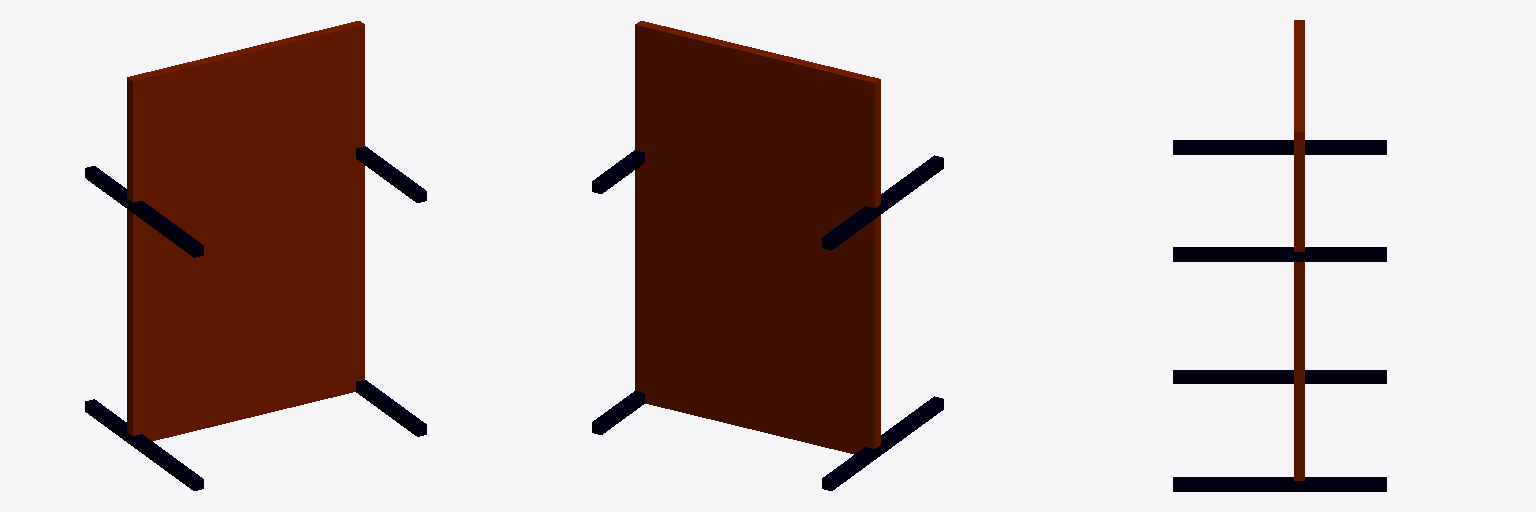
robot.urdf — pallet_rack:
<?xml version="1.0"?>
<robot name="pallet_rack">

  <material name="rack_blue"><color rgba="0.0 0.2 0.6 1.0"/></material>
  <material name="rack_orange"><color rgba="1.0 0.4 0.0 1.0"/></material>

  <link name="rack_base">
    
    <inertial>
      <mass value="100.0"/>
      <origin xyz="0 0 0.1" rpy="0 0 0"/>
      <inertia ixx="45.0" ixy="0.0" ixz="0.0" iyy="45.0" iyz="0.0" izz="5.0"/>
    </inertial>

    <visual><origin xyz="0 0 0" rpy="0 0 0"/><geometry><mesh filename="poll1.dae"/></geometry></visual>
    <collision><origin xyz="0 0 0" rpy="0 0 0"/><geometry><mesh filename="poll1.dae"/></geometry></collision>

    <visual><origin xyz="0 0 0" rpy="0 0 0"/><geometry><mesh filename="poll2.dae"/></geometry></visual>
    <collision><origin xyz="0 0 0" rpy="0 0 0"/><geometry><mesh filename="poll2.dae"/></geometry></collision>

    <visual><origin xyz="0 0 0" rpy="0 0 0"/><geometry><mesh filename="poll3.dae"/></geometry></visual>
    <collision><origin xyz="0 0 0" rpy="0 0 0"/><geometry><mesh filename="poll3.dae"/></geometry></collision>

    <visual><origin xyz="0 0 0" rpy="0 0 0"/><geometry><mesh filename="poll4.dae"/></geometry></visual>
    <collision><origin xyz="0 0 0" rpy="0 0 0"/><geometry><mesh filename="poll4.dae"/></geometry></collision>

    <visual><origin xyz="0 0 0" rpy="0 0 0"/><geometry><mesh filename="base.dae"/></geometry></visual>
    <collision><origin xyz="0 0 0" rpy="0 0 0"/><geometry><mesh filename="base.dae"/></geometry></collision>

    <visual><origin xyz="0 0 0.6" rpy="0 0 0"/><geometry><mesh filename="base.dae"/></geometry></visual>
    <collision><origin xyz="0 0 0.6" rpy="0 0 0"/><geometry><mesh filename="base.dae"/></geometry></collision>

  </link>
</robot>

--- Facts derived from the render (not from the file) ---
3 views of the same robot in one strip: view 1: azimuth 30°, elevation 25°; view 2: azimuth 150°, elevation 25°; view 3: azimuth 270°, elevation 25° (orthographic).
Robot: pallet_rack — 1 links, 0 joints (none); root link rack_base; default pose: every joint at zero.
Links seen in each view (by area): view 1: rack_base; view 2: rack_base; view 3: rack_base.
Boxes of the visible links, <box> form: rack_base: <box>85,21,426,490</box>; rack_base: <box>592,21,943,490</box>; rack_base: <box>1173,20,1386,491</box>.
Bounding box of the posed robot: 1.2 × 0.975 × 1.8 m (x, y, z).
Meshes: 5 distinct files referenced, 6 mesh visuals loaded (5 Collada DAE).
